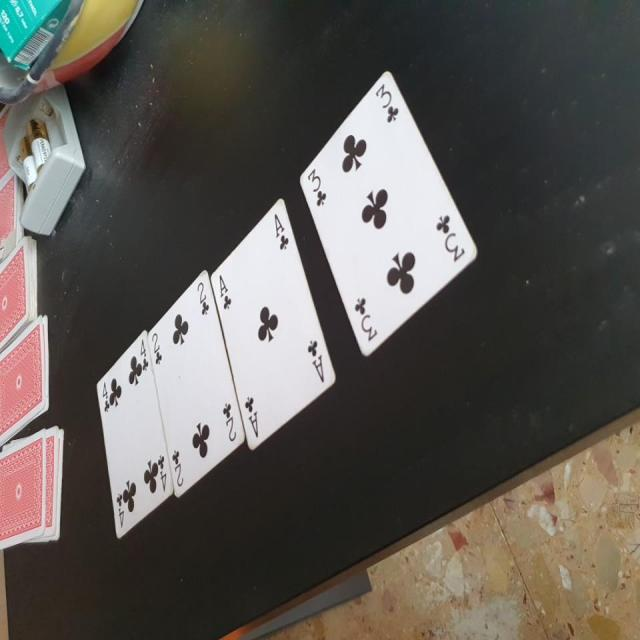2 Trefoils: (145, 269, 245, 498)
3 Trefoils: (297, 70, 480, 359)
4 Trefoils: (97, 331, 175, 538)
A Trefoils: (209, 198, 336, 454)
